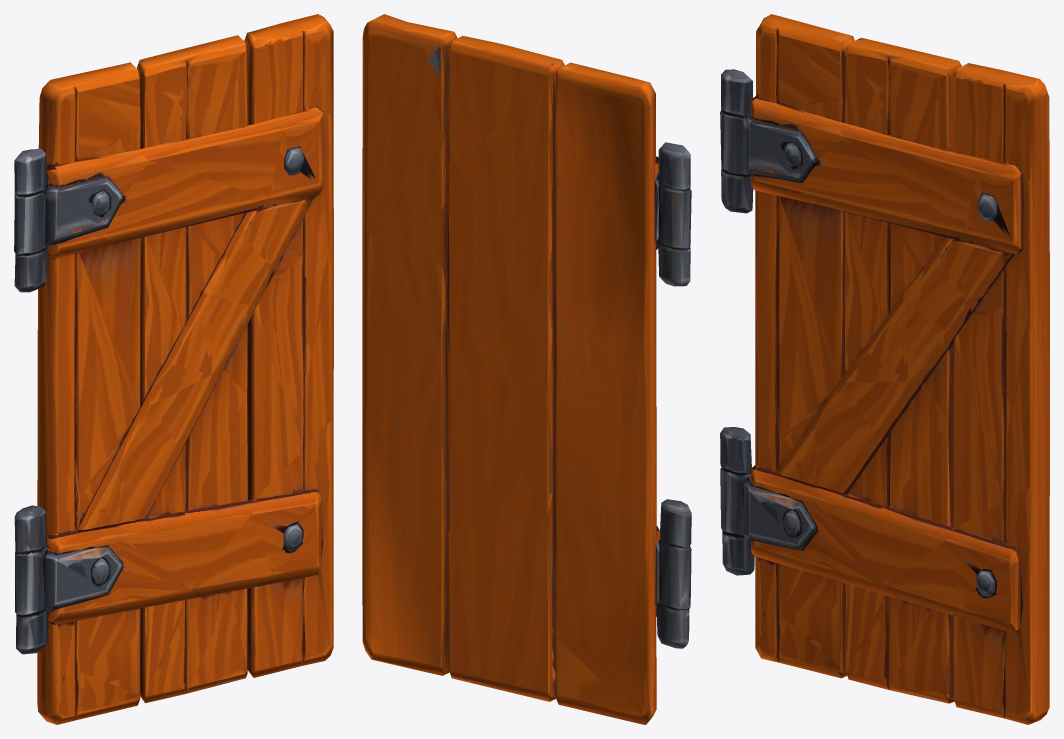
File: door.glb
The picture shows the model from 3 angles, left to right: view 1: azimuth 30°, elevation 25°; view 2: azimuth 150°, elevation 25°; view 3: azimuth 330°, elevation 25°; orthographic projection.
Visible parts, largest first — view 1: door; view 2: door; view 3: door.
Boxes of the visible parts, box(x1,y1,x2,y2) form: door: box(14, 14, 333, 724); door: box(362, 14, 691, 724); door: box(720, 14, 1049, 724).
Bounding box in the file's own units: 1.08 × 2.06 × 0.0999.
Materials: 1 (1 with a texture image).
